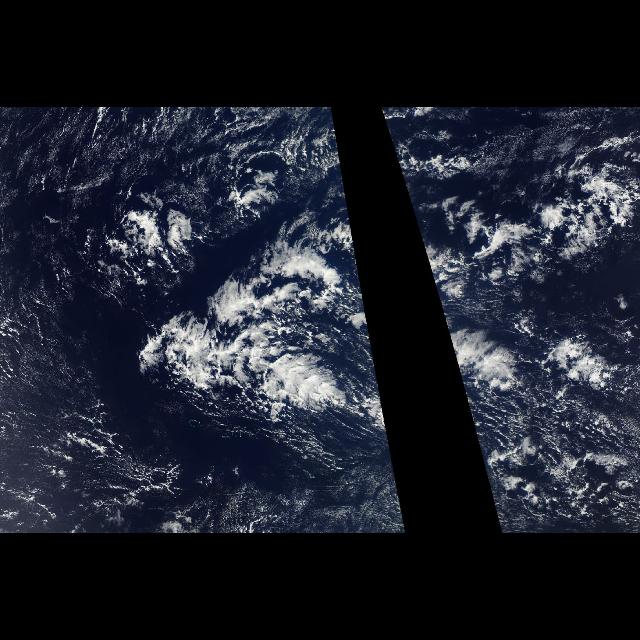Fish: (119, 188, 387, 458), (404, 188, 540, 428)
Gravel: (92, 116, 364, 290), (384, 116, 636, 290), (468, 297, 638, 531)
Sugar: (213, 465, 409, 533)
